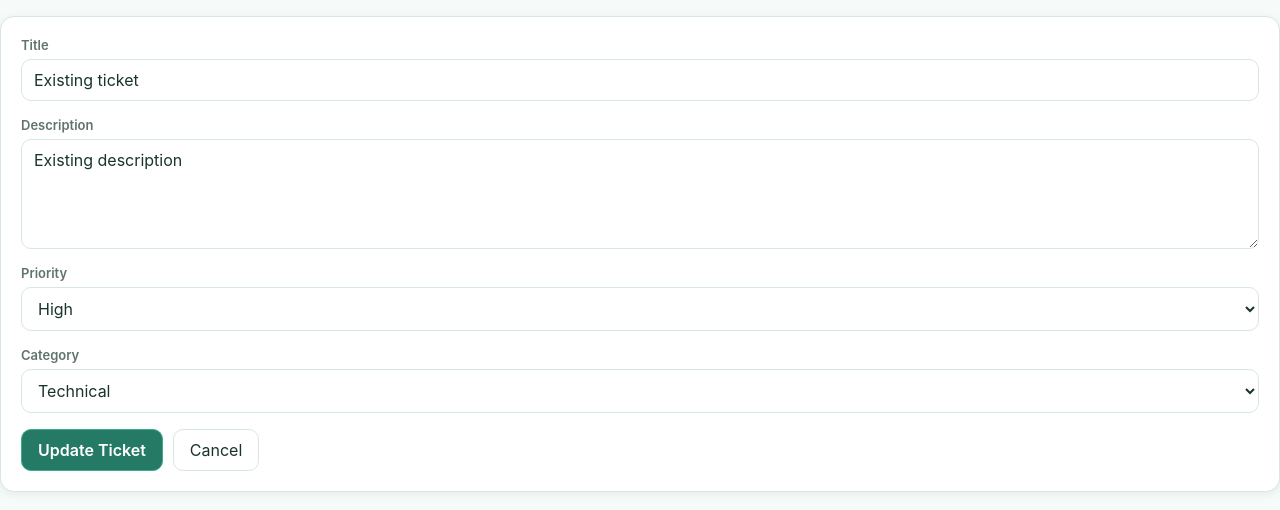
Test case: TicketForm — edit mode › resets the form after a successful update
Replace the text in the field labelled "Title" with "Updated title" at (640, 80), box x1=21 y1=59 x2=1259 y2=101
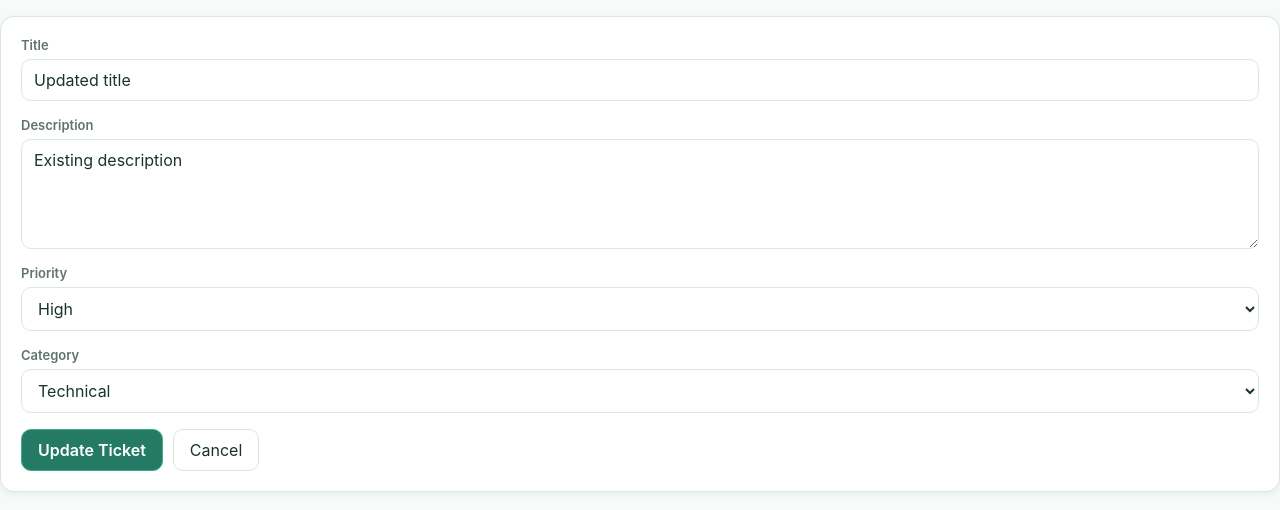
Replace the text in the text box labelled "Description" with "Updated description" at (640, 194), box x1=21 y1=139 x2=1259 y2=249
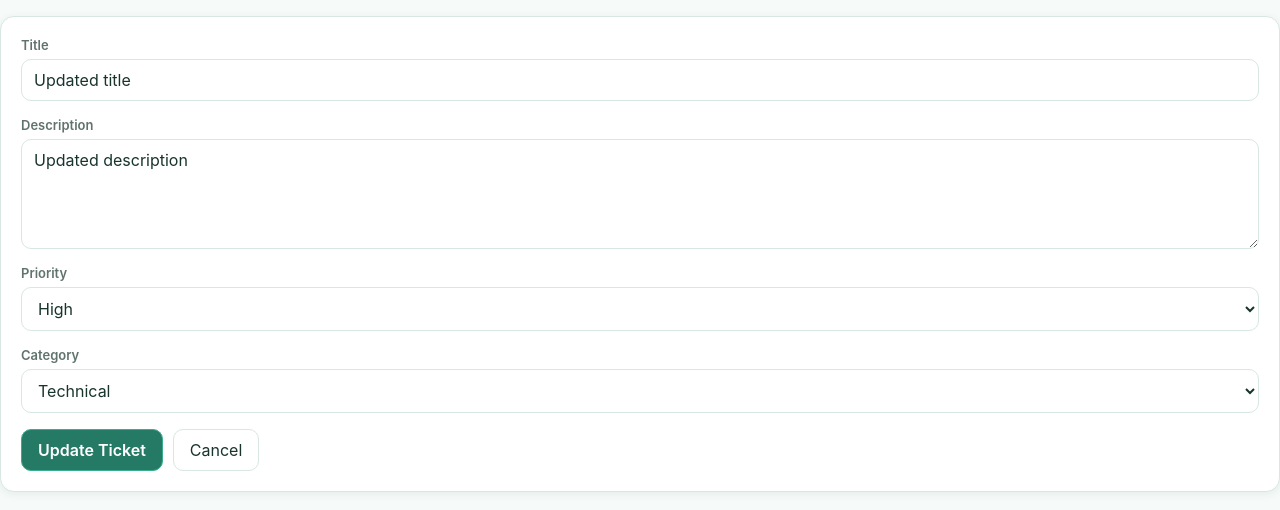
Click the button "Update Ticket".
click(92, 450)  # box x1=21 y1=429 x2=163 y2=471
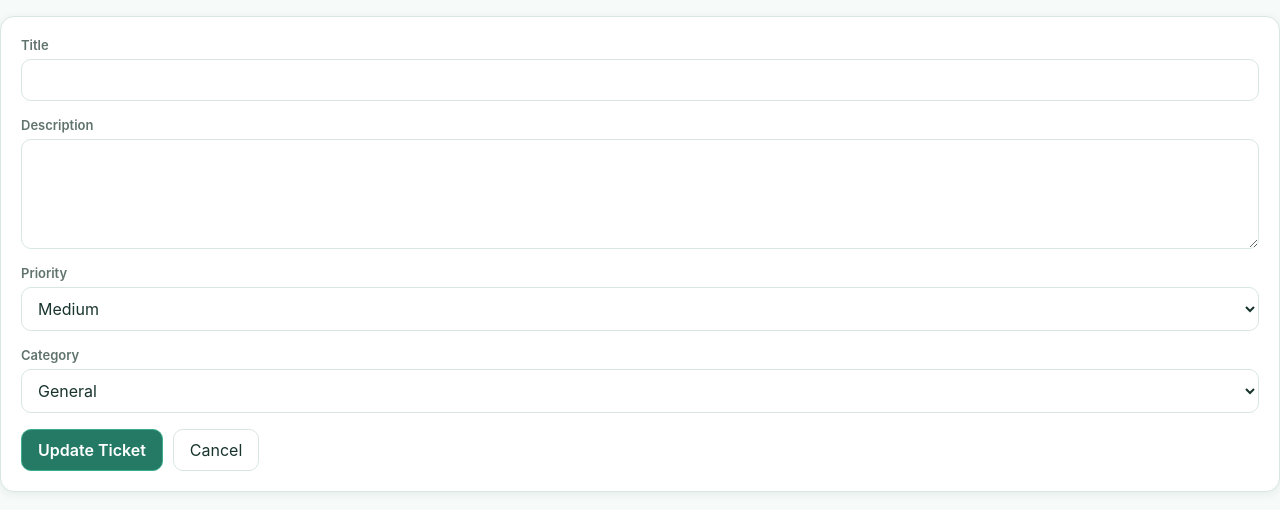
Expected: the field labelled "Title" is empty, x1=21 y1=59 x2=1259 y2=101
Expected: the text box labelled "Description" is empty, x1=21 y1=139 x2=1259 y2=249
Expected: the dropdown labelled "Priority" shows "Medium", x1=21 y1=287 x2=1259 y2=331
